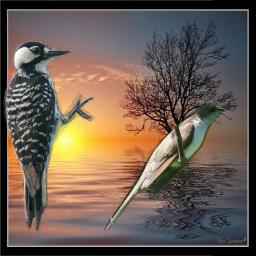Cuckoo: (104, 103, 225, 232)
Woodpecker: (1, 40, 97, 232)
